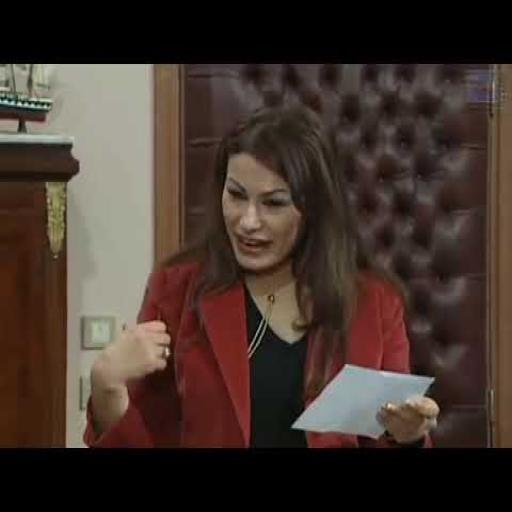zeineb: (222, 151, 302, 285)
